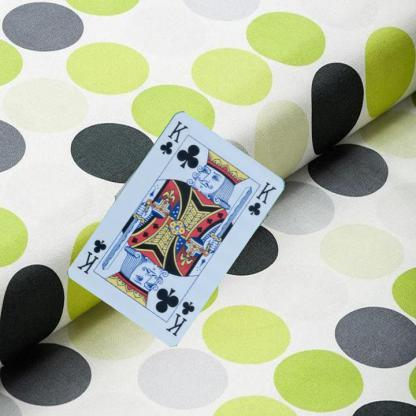Kc: (162, 298, 197, 338), (157, 118, 190, 156)
